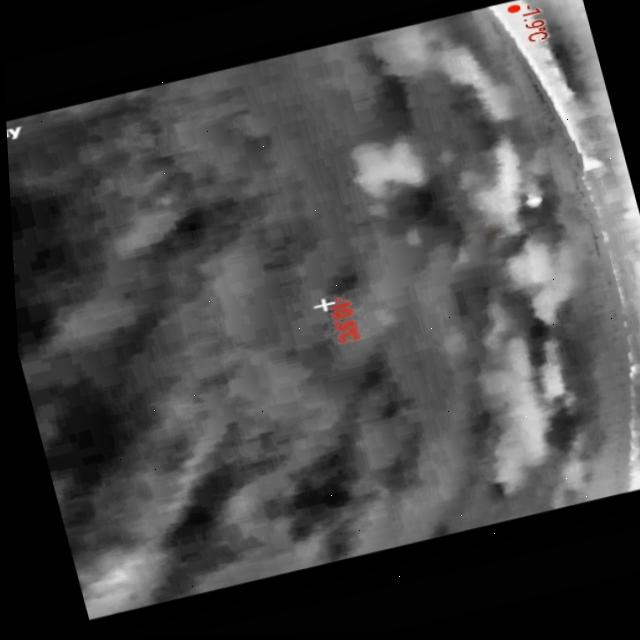drone: (521, 194, 542, 208)
